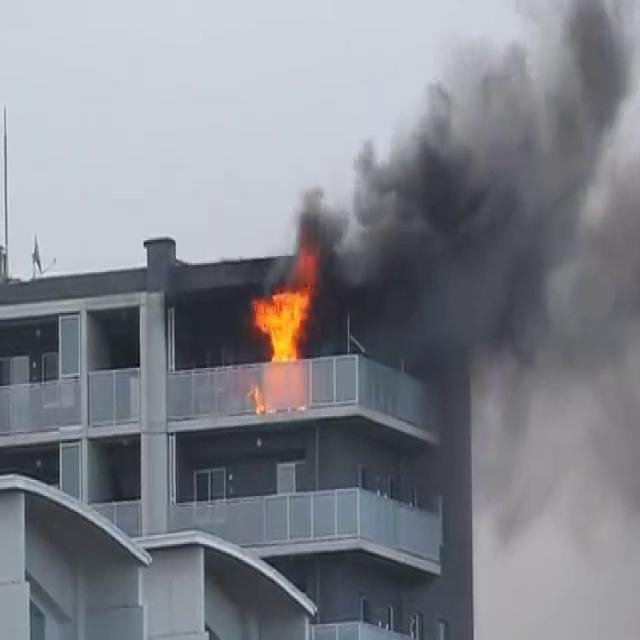Fire: (249, 270, 319, 368)
Smoke: (296, 2, 640, 402)
